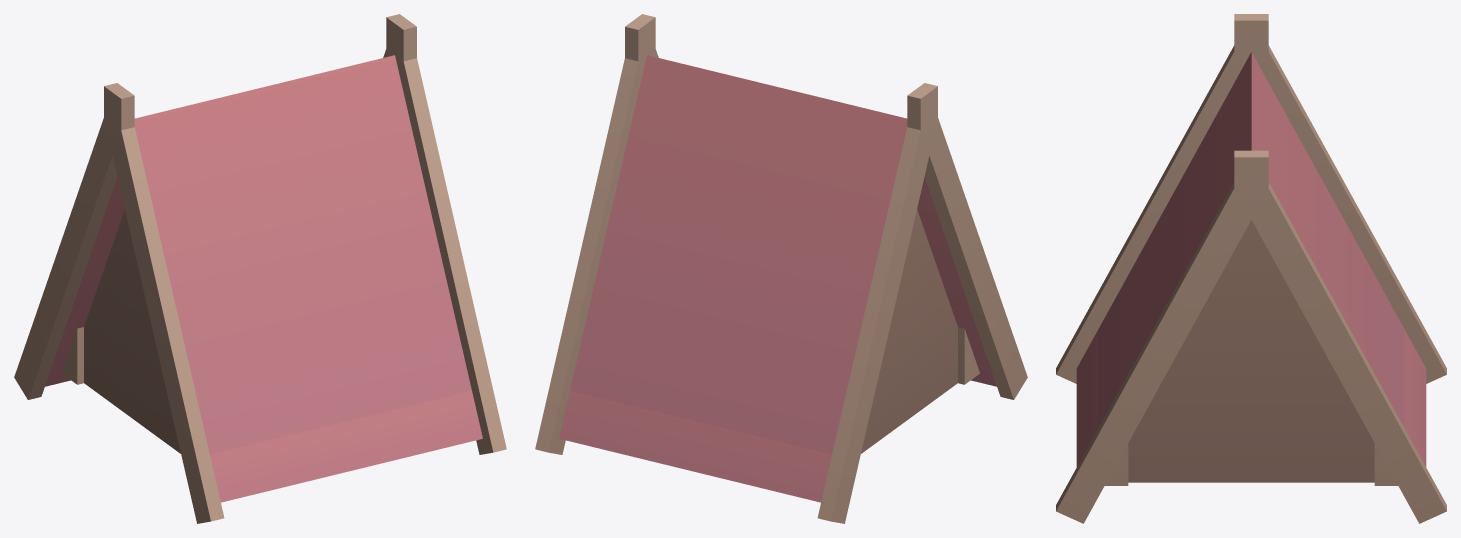
Rendered from roof-high-gable-detail.glb.
3 views of the same model, side by side, from view 1: azimuth 30°, elevation 25°; view 2: azimuth 150°, elevation 25°; view 3: azimuth 270°, elevation 25° (orthographic).
Parts seen in each view (by area): view 1: roof-high-gable-detail; view 2: roof-high-gable-detail; view 3: roof-high-gable-detail.
Part boxes in pixels (<box>): roof-high-gable-detail: <box>14,14,506,523</box>; roof-high-gable-detail: <box>535,14,1027,523</box>; roof-high-gable-detail: <box>1056,14,1446,523</box>.
Bounding box in the file's own units: 1.1 × 1.31 × 1.27.
